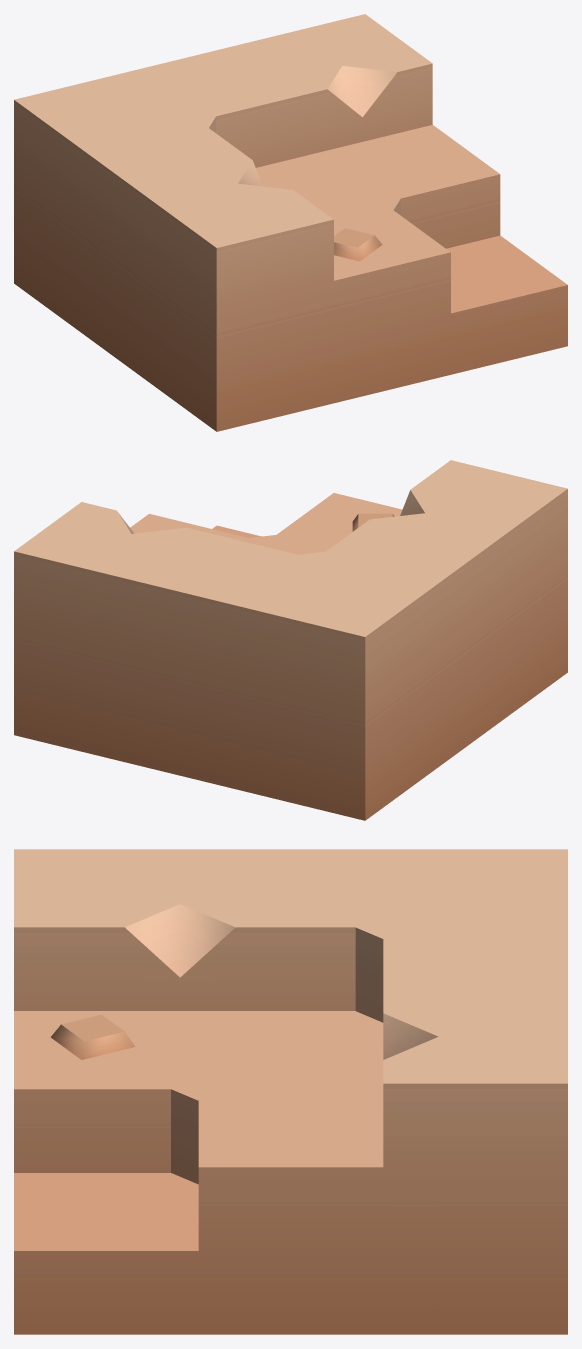
Rendered from stairs-corner-inner.glb.
3 renders of one model, top to bottom at view 1: azimuth 30°, elevation 25°; view 2: azimuth 150°, elevation 25°; view 3: azimuth 270°, elevation 25°, orthographic. The views are drawn at different scales.
Parts seen in each view (by area): view 1: stairs-corner-inner; view 2: stairs-corner-inner; view 3: stairs-corner-inner.
Boxes of the visible parts, box(x1,y1,x2,y2) form: stairs-corner-inner: box(14, 14, 567, 431); stairs-corner-inner: box(14, 460, 567, 820); stairs-corner-inner: box(14, 849, 567, 1334).
Size of the model in its own units: 1 by 0.5001 by 1.
1 material, 1 textured.
